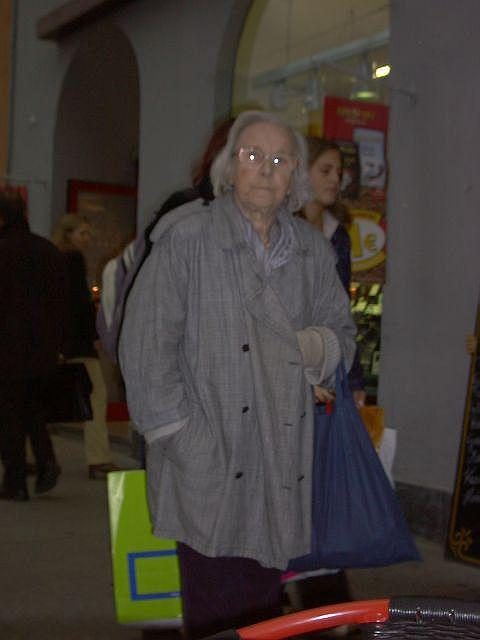Person: (122, 113, 361, 640)
